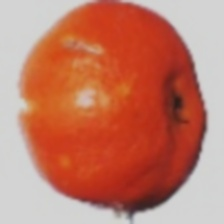tangerine: (35, 15, 215, 190)
